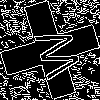W: (25, 25, 83, 84)
